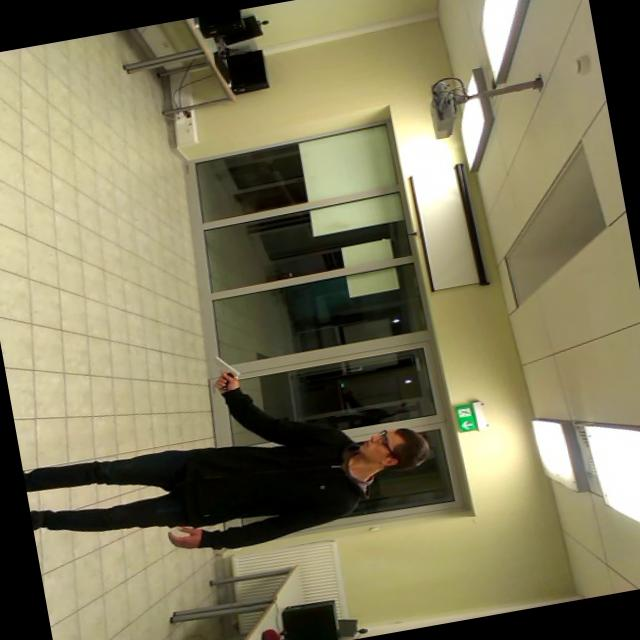handgun: (195, 342, 258, 406)
